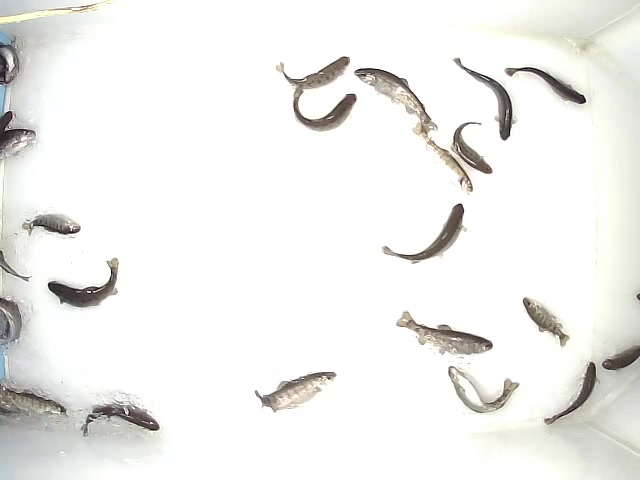fish: (381, 198, 466, 265), (454, 54, 518, 142), (355, 66, 437, 129), (394, 309, 493, 357), (46, 254, 124, 310), (414, 124, 476, 193), (541, 358, 601, 425), (445, 365, 519, 418), (254, 370, 338, 414), (78, 396, 159, 438), (503, 64, 587, 104), (291, 83, 357, 133), (272, 53, 351, 93), (520, 293, 570, 349), (450, 119, 492, 173), (22, 211, 82, 236)
